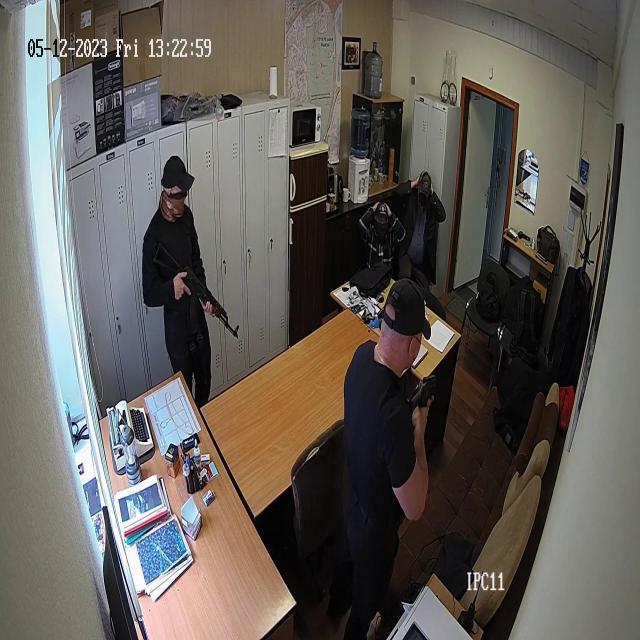pistol: (151, 238, 242, 348), (408, 371, 440, 411)
